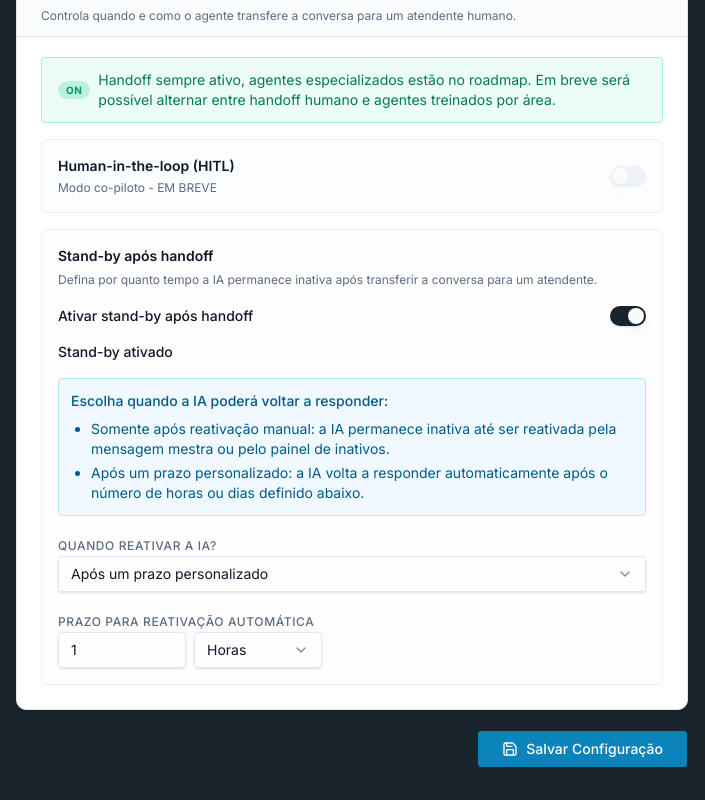
Test: <ClinicConfig /> handoff stand-by › blocks PATCH for invalid custom value 0 in hours
The width and height of the screenshot is (705, 800).
(page scrolled)
Expected: the element with test id "handoff-standby-settings" is shown, [41, 229, 663, 684]
Replace the text in the number field with "0" at (122, 650), box [58, 632, 186, 668]
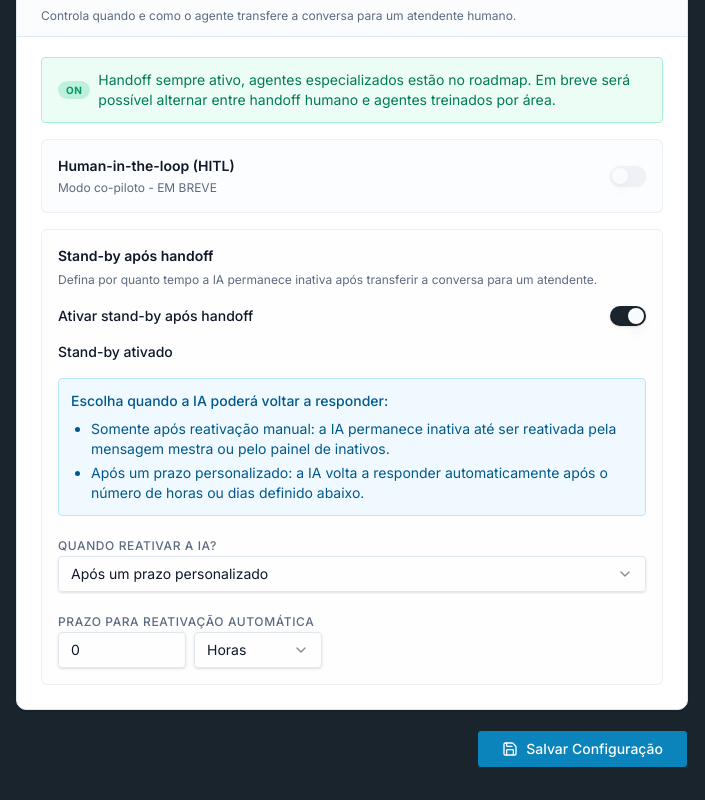
Click the button with test id "btn-save-config" at (583, 748), box [477, 730, 688, 768]
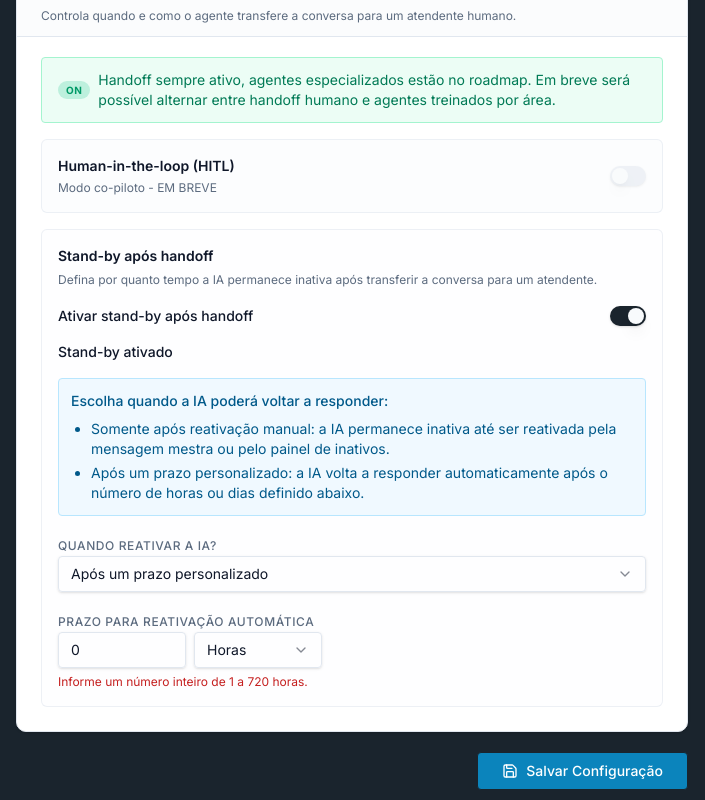
Now the message reads "Informe um número inteiro de 1 a 720 horas.", box [58, 674, 308, 688]
